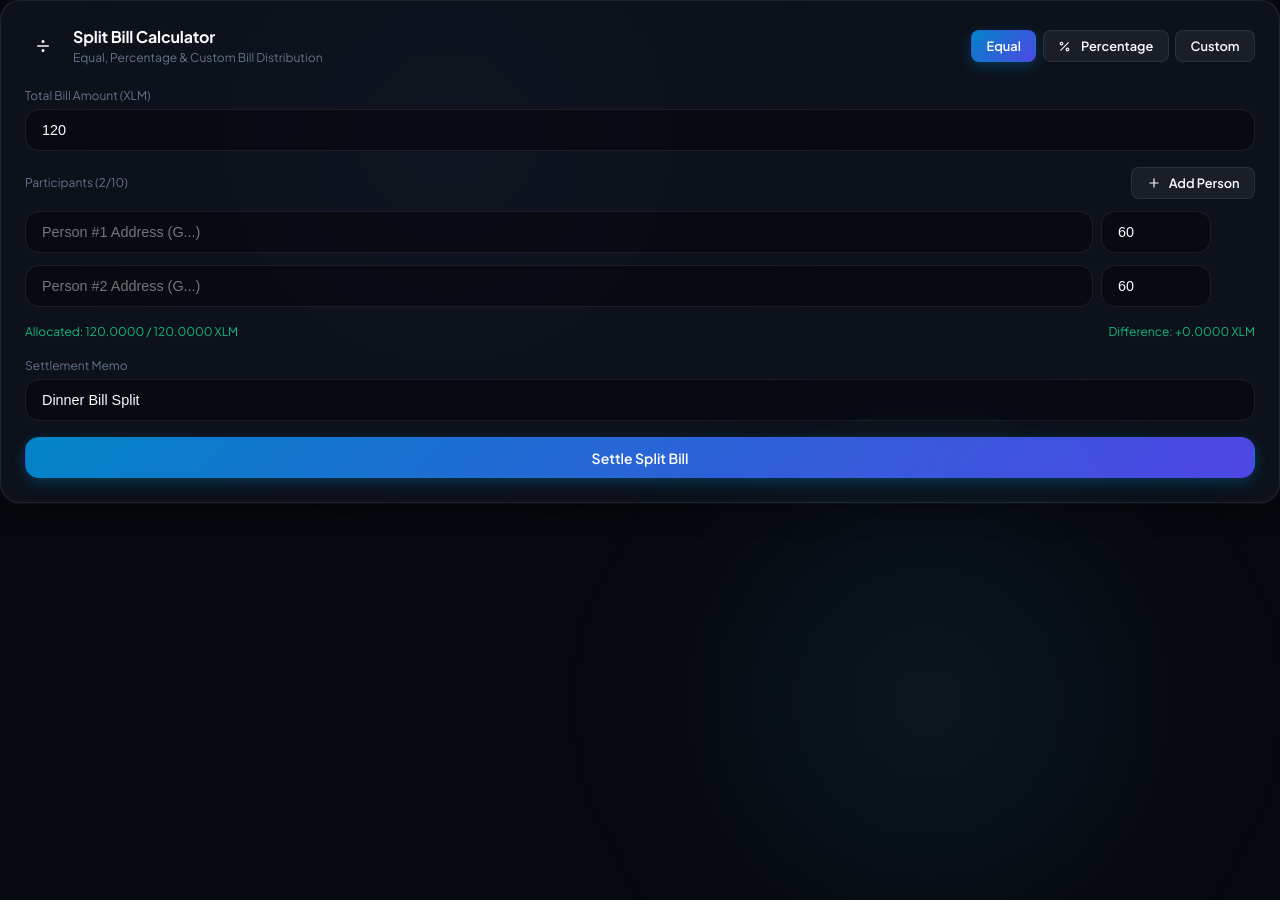
Test: Multi-Recipient & Split Payments › SplitBillForm Calculations › calculates equal splits evenly with remainder handling
The image size is (1280, 900).
Expected: the element with test id "split-bill-form" is shown, [0, 0, 1279, 503]
Replace the text in the number field with test id "split-total-input" with "100" at (640, 130), box [25, 109, 1255, 151]
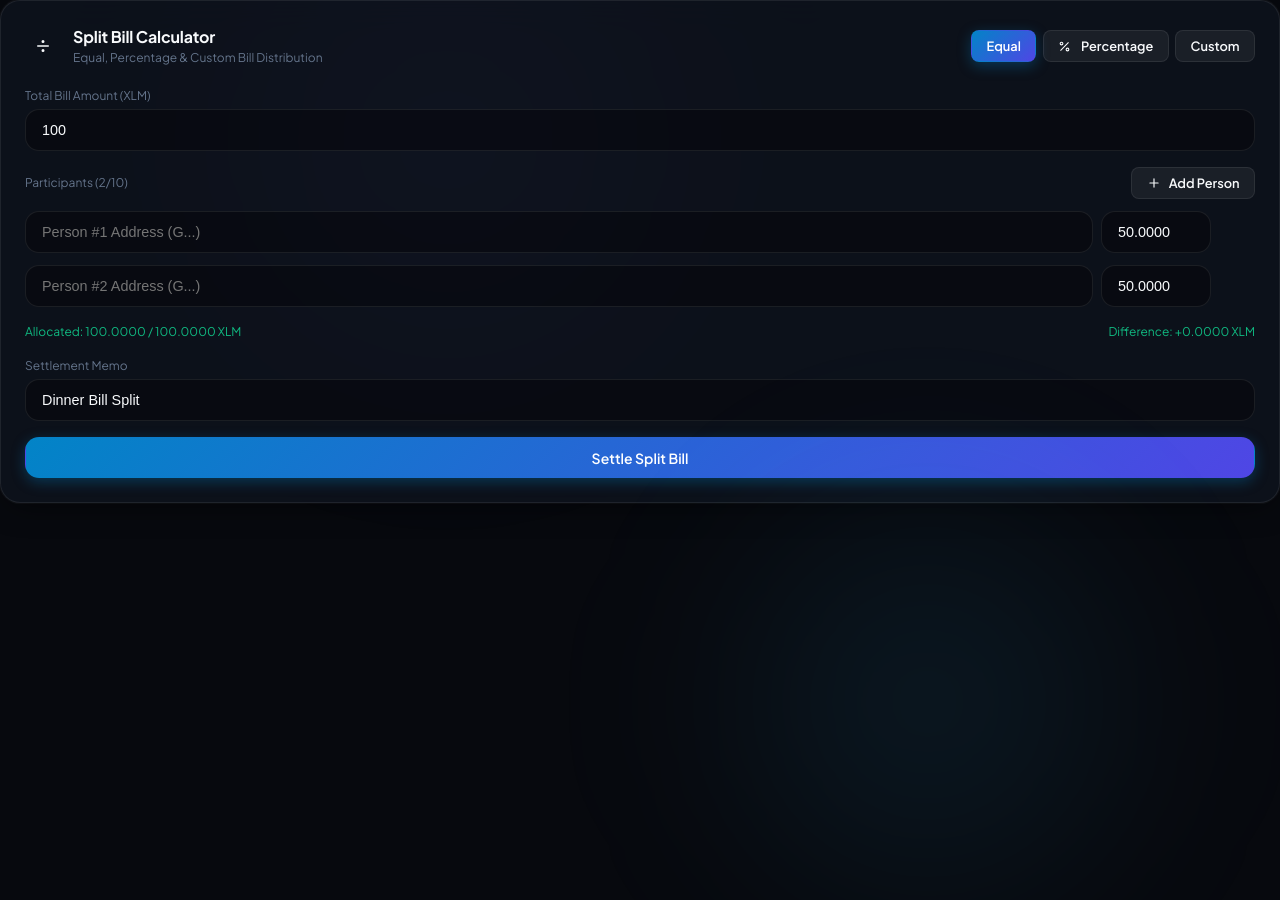
Now the number field with test id "split-share-0" holds "50.0000", box [1101, 211, 1211, 253]
Now the number field with test id "split-share-1" holds "50.0000", box [1101, 265, 1211, 307]
